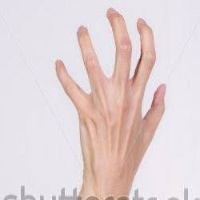ring: (72, 23, 113, 92)
